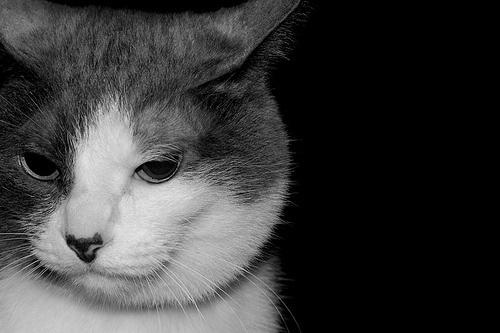cat: (1, 2, 312, 333)
